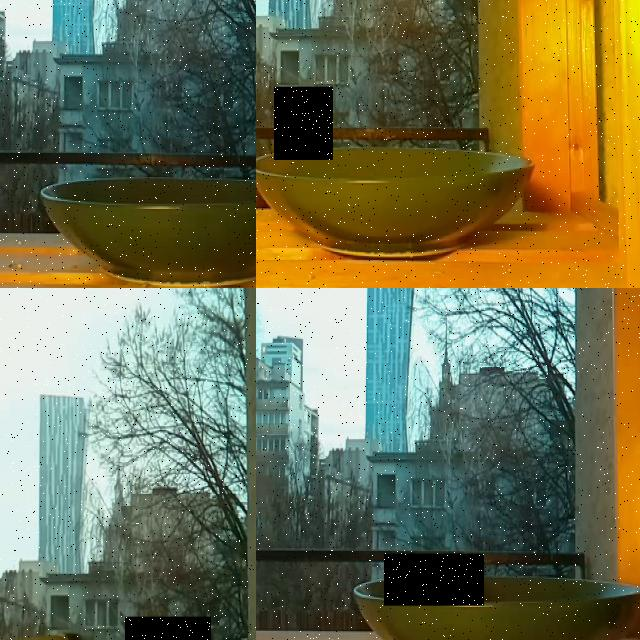Modraszka: (384, 554, 484, 606), (274, 87, 333, 160)
Wrobel: (125, 616, 211, 640)
